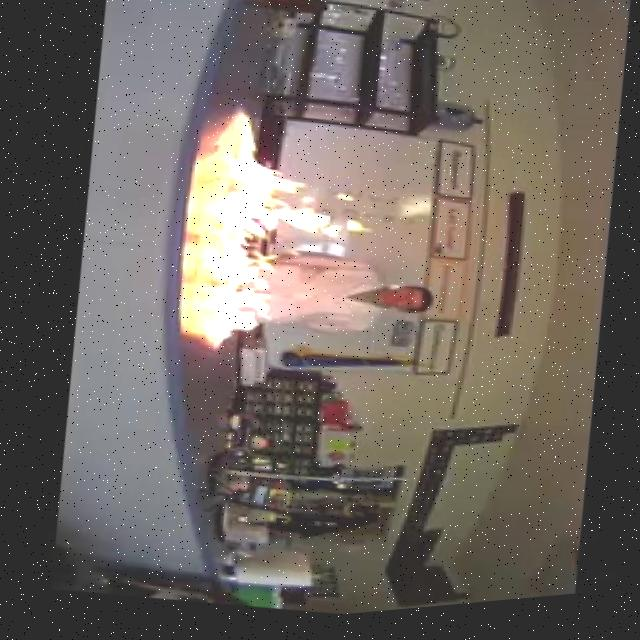Fire: (167, 94, 387, 380)
